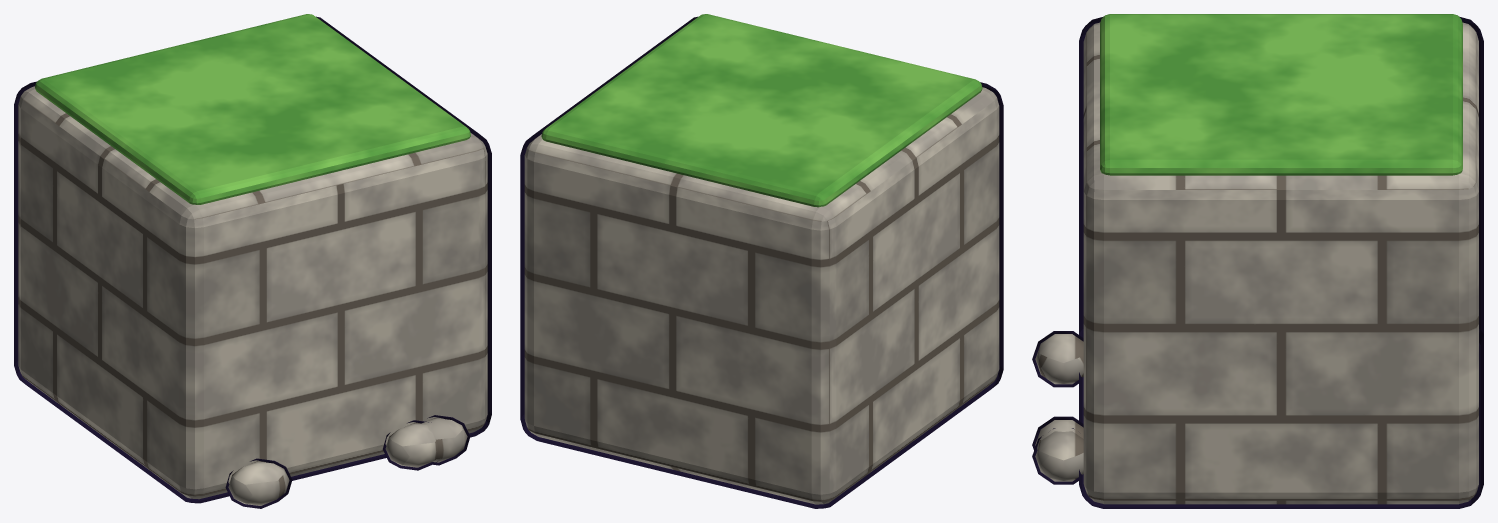
Rendered from wall1.glb.
The picture shows the model from 3 angles, left to right: view 1: azimuth 30°, elevation 25°; view 2: azimuth 150°, elevation 25°; view 3: azimuth 270°, elevation 25°; orthographic projection. The views are drawn at different scales.
Visible parts, largest first — view 1: wall1; view 2: wall1; view 3: wall1.
Part boxes in pixels (x1,y1,x2,y2): wall1: [14, 14, 491, 508]; wall1: [520, 14, 1003, 508]; wall1: [1032, 14, 1483, 508].
Size of the model in its own units: 1 by 0.948 by 1.12.
Materials: 3 (2 with a texture image).
